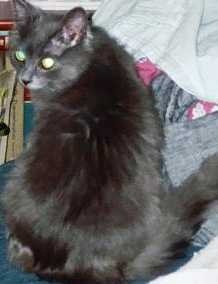Cat: (4, 0, 203, 265)
